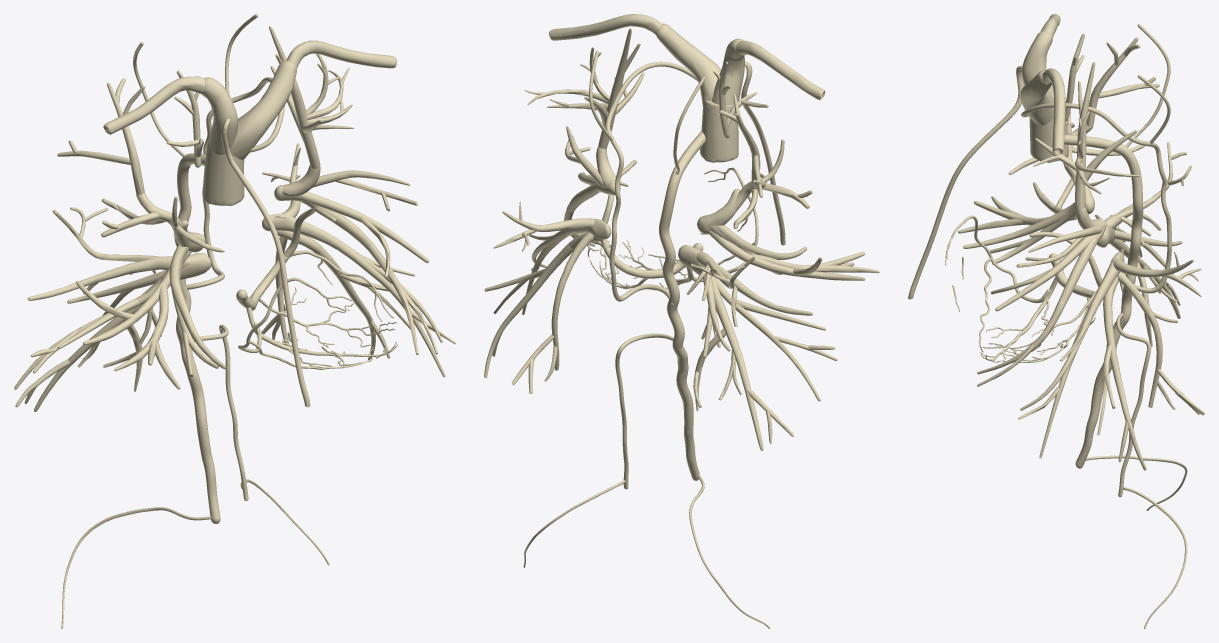
File: bodyparts3d-venous-thorax.glb
3 views of the same model, side by side, from view 1: azimuth 30°, elevation 25°; view 2: azimuth 150°, elevation 25°; view 3: azimuth 270°, elevation 25° (orthographic). The views are drawn at different scales.
Parts seen in each view (by area): view 1: venous-segmental-pulmonary-veins, venous-subsegmental-pulmonary-veins, venous-azygos-vein, venous-brachiocephalic-vein-left, venous-superior-vena-cava, venous-internal-thoracic-vein-right, venous-brachiocephalic-vein-right, venous-subclavian-vein-left, venous-subclavian-vein-right, venous-left-superior-pulmonary-vein, venous-accessory-hemiazygos-vein, venous-left-inferior-pulmonary-vein (+5 smaller); view 2: venous-segmental-pulmonary-veins, venous-subsegmental-pulmonary-veins, venous-azygos-vein, venous-accessory-hemiazygos-vein, venous-brachiocephalic-vein-left, venous-superior-vena-cava, venous-subclavian-vein-left, venous-subclavian-vein-right, venous-brachiocephalic-vein-right, venous-left-inferior-pulmonary-vein, venous-left-superior-pulmonary-vein, venous-internal-thoracic-vein-right (+4 smaller); view 3: venous-segmental-pulmonary-veins, venous-subsegmental-pulmonary-veins, venous-azygos-vein, venous-accessory-hemiazygos-vein, venous-internal-thoracic-vein-right, venous-left-inferior-pulmonary-vein, venous-brachiocephalic-vein-left, venous-subclavian-vein-left, venous-left-superior-pulmonary-vein, venous-brachiocephalic-vein-right, venous-hemiazygos-vein, venous-superior-vena-cava (+6 smaller).
Boxes of the visible parts, x1,y1,x2,y2 form: venous-segmental-pulmonary-veins: (14, 26, 455, 411); venous-subsegmental-pulmonary-veins: (76, 70, 226, 389); venous-azygos-vein: (174, 153, 220, 523); venous-brachiocephalic-vein-left: (230, 60, 297, 159); venous-superior-vena-cava: (202, 140, 244, 205); venous-internal-thoracic-vein-right: (221, 119, 310, 407); venous-brachiocephalic-vein-right: (202, 77, 238, 154); venous-subclavian-vein-left: (286, 40, 396, 68); venous-subclavian-vein-right: (103, 76, 204, 134); venous-left-superior-pulmonary-vein: (274, 165, 372, 249); venous-accessory-hemiazygos-vein: (186, 77, 284, 289); venous-left-inferior-pulmonary-vein: (262, 213, 341, 253); venous-segmental-pulmonary-veins: (484, 28, 837, 450); venous-subsegmental-pulmonary-veins: (707, 61, 879, 280); venous-azygos-vein: (659, 131, 705, 480); venous-accessory-hemiazygos-vein: (605, 61, 697, 305); venous-brachiocephalic-vein-left: (655, 23, 721, 107); venous-superior-vena-cava: (700, 100, 738, 162); venous-subclavian-vein-left: (549, 14, 662, 40); venous-subclavian-vein-right: (735, 40, 825, 100); venous-brachiocephalic-vein-right: (712, 38, 744, 105); venous-left-inferior-pulmonary-vein: (561, 219, 611, 280); venous-left-superior-pulmonary-vein: (568, 146, 620, 212); venous-internal-thoracic-vein-right: (741, 61, 785, 245); venous-segmental-pulmonary-veins: (977, 37, 1204, 470); venous-subsegmental-pulmonary-veins: (958, 33, 1092, 264); venous-azygos-vein: (1064, 134, 1143, 468); venous-accessory-hemiazygos-vein: (1021, 103, 1171, 293); venous-internal-thoracic-vein-right: (908, 65, 1023, 299); venous-left-inferior-pulmonary-vein: (1090, 252, 1152, 316); venous-brachiocephalic-vein-left: (1020, 69, 1053, 125); venous-subclavian-vein-left: (1042, 68, 1065, 154); venous-left-superior-pulmonary-vein: (1057, 207, 1106, 304); venous-brachiocephalic-vein-right: (1022, 31, 1053, 98); venous-hemiazygos-vein: (1116, 313, 1151, 497); venous-superior-vena-cava: (1029, 117, 1068, 162).
Bounding box in the file's own units: 0.2332 × 0.3437 × 0.175.
